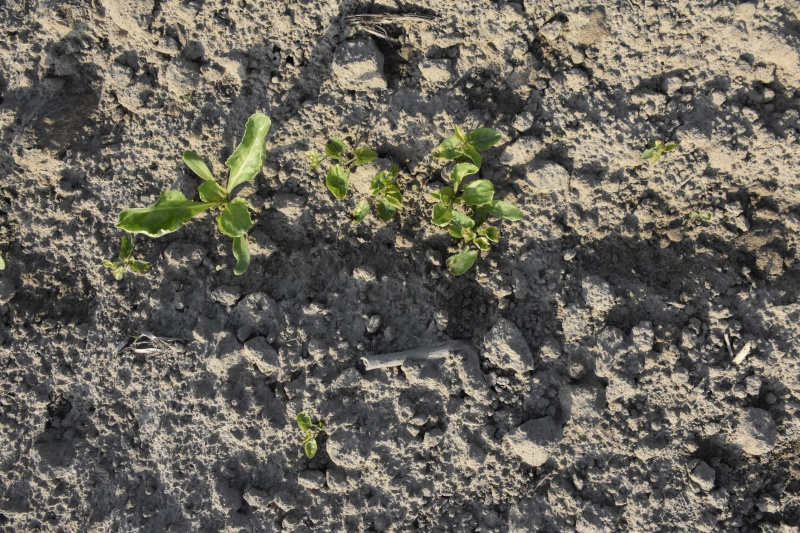field bindweed: (436, 219, 509, 279), (351, 164, 405, 223), (430, 126, 505, 165), (316, 141, 367, 197), (292, 408, 328, 463), (643, 135, 673, 163)
sugar beet: (118, 108, 274, 274), (419, 169, 504, 227)
